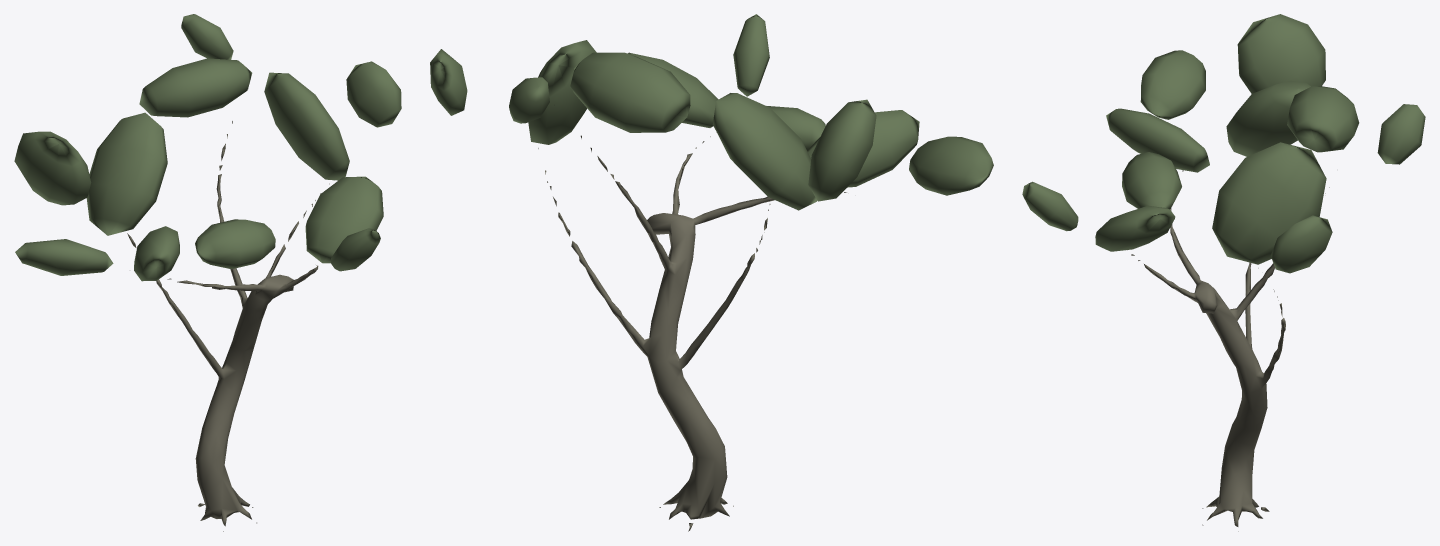
File: Oleastre_0_Niveau2.fbx
3 renders of one model, left to right at view 1: azimuth 30°, elevation 25°; view 2: azimuth 150°, elevation 25°; view 3: azimuth 270°, elevation 25°, orthographic. The views are drawn at different scales.
Visible parts, largest first — view 1: Oleastre_0_Niveau2_Jeu; view 2: Oleastre_0_Niveau2_Jeu; view 3: Oleastre_0_Niveau2_Jeu.
Boxes of the visible parts, <box> form: Oleastre_0_Niveau2_Jeu: <box>14,14,401,531</box>; Oleastre_0_Niveau2_Jeu: <box>430,14,993,531</box>; Oleastre_0_Niveau2_Jeu: <box>1022,14,1425,531</box>.
Bounding box in the file's own units: 232 × 221 × 184.
